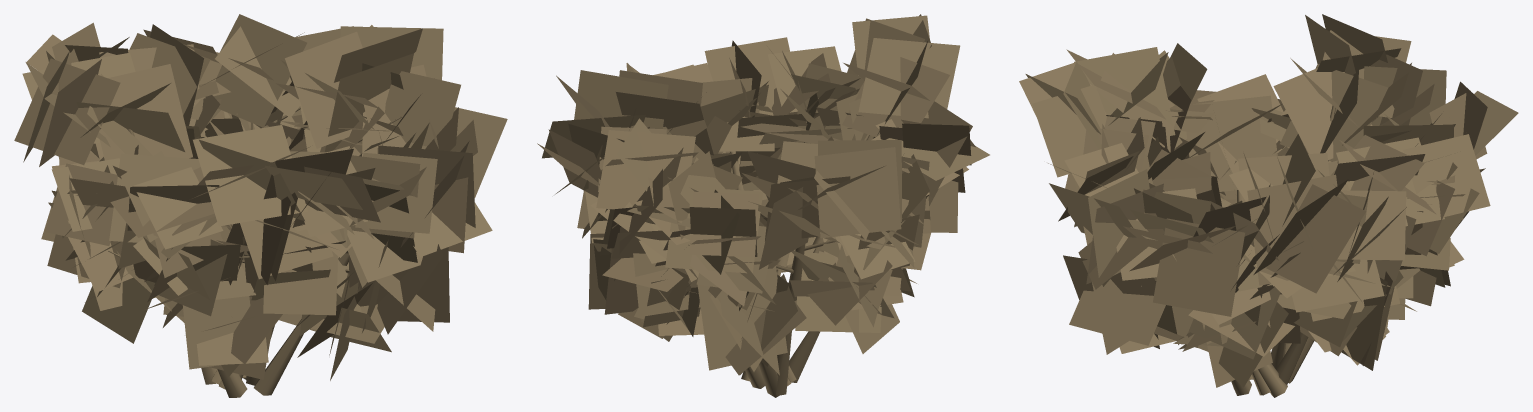
File: bush-2-lod0.glb
The picture shows the model from 3 angles, left to right: view 1: azimuth 30°, elevation 25°; view 2: azimuth 150°, elevation 25°; view 3: azimuth 270°, elevation 25°; orthographic projection. The views are drawn at different scales.
Parts seen in each view (by area): view 1: bush-2-lod0-bush-foliage, bush-2-lod0-oak-bark; view 2: bush-2-lod0-bush-foliage, bush-2-lod0-oak-bark; view 3: bush-2-lod0-bush-foliage, bush-2-lod0-oak-bark.
Boxes of the visible parts, x1=… form: bush-2-lod0-bush-foliage: x1=14, y1=14, x2=507, y2=380; bush-2-lod0-oak-bark: x1=108, y1=107, x2=401, y2=397; bush-2-lod0-bush-foliage: x1=537, y1=14, x2=989, y2=375; bush-2-lod0-oak-bark: x1=727, y1=122, x2=873, y2=397; bush-2-lod0-bush-foliage: x1=1019, y1=14, x2=1518, y2=387; bush-2-lod0-oak-bark: x1=1231, y1=106, x2=1378, y2=397.
Bounding box in the file's own units: 3.62 × 2.76 × 4.16.
